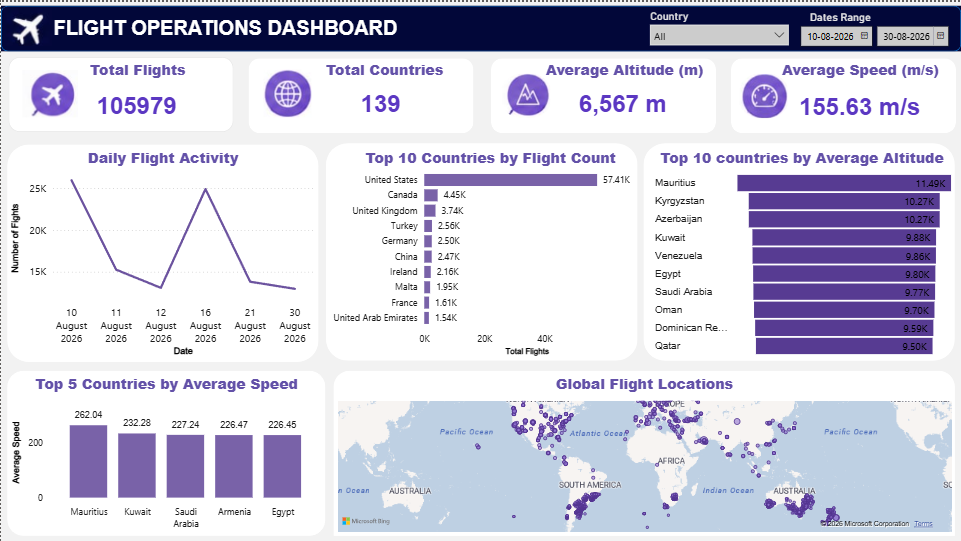

Layout of this report page (visuals, bound fields, positions):
{"tool":"powerbi","page":{"name":"Excutive Overview","canvas":[1280,720],"ordinal":0},"visuals":[{"type":"shape","box":[857.1,189.1,415,290],"z":0},{"type":"shape","box":[444.1,491.4,828.5,220.2],"z":1000},{"type":"shape","box":[972.9,74.3,300,100],"z":2000},{"type":"shape","box":[0,4.5,1280,61],"z":3000},{"type":"shape","box":[9.2,74,300,100],"z":4000},{"type":"shape","box":[330,74.3,300,100],"z":5000},{"type":"shape","box":[652.9,74.3,300,100],"z":6000},{"type":"shape","box":[8.6,190,415,290],"z":7000},{"type":"shape","box":[8.7,491.4,424.2,220.2],"z":8000},{"type":"shape","box":[432.9,189.1,415.5,289.8],"z":9000},{"type":"textbox","title":"FLIGHT OPERATIONS DASHBOARD","box":[0,20,598.6,34.3],"z":10000},{"type":"slicer","title":"Country","fields":{"Values":["flight_ops fact_flights.origin_country"]},"box":[855.1,20,205,42.7],"z":11000},{"type":"textbox","title":"Country","box":[849.6,10,82.1,31.1],"z":12000},{"type":"slicer","title":"Date","fields":{"Values":["flight_ops fact_flights.flight_date"]},"box":[1053.6,21.1,221.4,39.8],"z":13000},{"type":"textbox","title":"Dates Range","box":[1053.4,11.2,131.9,31.1],"z":14000},{"type":"cardVisual","fields":{"Data":["flight_ops fact_flights.Total Flights"]},"box":[93.5,103.2,175.4,69.7],"z":15000},{"type":"textbox","title":"Total Flights","box":[101,77.1,161.2,31.2],"z":16000},{"type":"textbox","title":"Total Countries","box":[425.4,77.1,172.9,31.1],"z":17000},{"type":"cardVisual","fields":{"Data":["flight_ops fact_flights.Total Countries"]},"box":[436.6,99.5,139.3,70.9],"z":18000},{"type":"cardVisual","fields":{"Data":["flight_ops fact_flights.Average Altitude"]},"box":[721.5,99.5,215.2,70.9],"z":19000},{"type":"cardVisual","fields":{"Data":["flight_ops fact_flights.Average Speed"]},"box":[1034,103.2,223.9,70.9],"z":20000},{"type":"textbox","title":"Average Altitude (m)","box":[719,77.1,226.4,32.3],"z":21000},{"type":"textbox","title":"Average Speed (m/s)","box":[1034,77.1,225.2,32.3],"z":22000},{"type":"lineChart","title":"Daily Flight Operations","fields":{"Y":["flight_ops fact_flights.Total Flights"],"Category":["flight_ops fact_flights.flight_date"]},"box":[8.7,223.9,415.5,255],"z":23000},{"type":"textbox","title":"Daily Flight Activity","box":[82.1,192.8,268.7,31.1],"z":24000},{"type":"clusteredBarChart","title":"Top 10 Countries by Flight Count","fields":{"Category":["flight_ops fact_flights.origin_country"],"Y":["flight_ops fact_flights.Total Flights"]},"box":[432.9,209,415.5,270],"z":25000},{"type":"funnel","title":"Top 10 Countries by Average Altitude","fields":{"Category":["flight_ops dim_country.country_name"],"Y":["Avg(flight_ops fact_flights.baro_altitude)"]},"box":[859.6,223.9,416.7,253.8],"z":26000},{"type":"textbox","title":"Top 10 countries by Average Altitude","box":[868.3,192.8,399.3,31.1],"z":27000},{"type":"textbox","title":"Top 10 Countries by Flight Count","box":[470.2,192.8,365.7,31.1],"z":28000},{"type":"clusteredColumnChart","title":"Top 5 Countries by Average Speed","fields":{"Category":["flight_ops dim_country.country_name"],"Y":["Avg(flight_ops fact_flights.velocity)"]},"box":[10,526.2,422.9,185.3],"z":29000},{"type":"textbox","title":"Top 5 Countries by Average Speed","box":[22.4,495.1,398.1,31.1],"z":30000},{"type":"map","title":"Flight Locations","fields":{"Y":["flight_ops fact_flights.latitude"],"X":["flight_ops fact_flights.longitude"],"Size":["CountNonNull(flight_ops fact_flights.icao24)"]},"box":[445.3,526.2,827.2,185.3],"z":31000},{"type":"textbox","title":"Global Flight Locations","box":[726.5,495.1,262.5,31.1],"z":32000},{"type":"image","box":[3.7,5,64.7,56],"z":33000},{"type":"image","box":[28.6,89.6,74.6,64.7],"z":34000},{"type":"image","box":[345.8,89.6,74,64],"z":35000},{"type":"image","box":[665.5,94.5,70,60],"z":36000},{"type":"image","box":[981.5,94.5,70,60],"z":37000}]}

Visuals, with their boxes in screenshot pixels (x1, y1, x2, y2), scaled from the page's 1280x720 canvas onto the 961x541 screenshot:
shape: <region>643, 142, 955, 360</region>
shape: <region>333, 369, 955, 535</region>
shape: <region>730, 56, 956, 131</region>
shape: <region>0, 3, 960, 49</region>
shape: <region>7, 56, 232, 131</region>
shape: <region>248, 56, 473, 131</region>
shape: <region>490, 56, 715, 131</region>
shape: <region>6, 143, 318, 361</region>
shape: <region>7, 369, 325, 535</region>
shape: <region>325, 142, 637, 360</region>
"FLIGHT OPERATIONS DASHBOARD" textbox: <region>0, 15, 449, 41</region>
"Country" slicer: <region>642, 15, 796, 47</region>
"Country" textbox: <region>638, 8, 700, 31</region>
"Date" slicer: <region>791, 16, 957, 46</region>
"Dates Range" textbox: <region>791, 8, 890, 32</region>
cardVisual - flight_ops fact_flights.Total Flights: <region>70, 78, 202, 130</region>
"Total Flights" textbox: <region>76, 58, 197, 81</region>
"Total Countries" textbox: <region>319, 58, 449, 81</region>
cardVisual - flight_ops fact_flights.Total Countries: <region>328, 75, 432, 128</region>
cardVisual - flight_ops fact_flights.Average Altitude: <region>542, 75, 703, 128</region>
cardVisual - flight_ops fact_flights.Average Speed: <region>776, 78, 944, 131</region>
"Average Altitude (m)" textbox: <region>540, 58, 710, 82</region>
"Average Speed (m/s)" textbox: <region>776, 58, 945, 82</region>
"Daily Flight Operations" lineChart: <region>7, 168, 318, 360</region>
"Daily Flight Activity" textbox: <region>62, 145, 263, 168</region>
"Top 10 Countries by Flight Count" clusteredBarChart: <region>325, 157, 637, 360</region>
"Top 10 Countries by Average Altitude" funnel: <region>645, 168, 958, 359</region>
"Top 10 countries by Average Altitude" textbox: <region>652, 145, 952, 168</region>
"Top 10 Countries by Flight Count" textbox: <region>353, 145, 628, 168</region>
"Top 5 Countries by Average Speed" clusteredColumnChart: <region>8, 395, 325, 535</region>
"Top 5 Countries by Average Speed" textbox: <region>17, 372, 316, 395</region>
"Flight Locations" map: <region>334, 395, 955, 535</region>
"Global Flight Locations" textbox: <region>545, 372, 743, 395</region>
image: <region>3, 4, 51, 46</region>
image: <region>21, 67, 77, 116</region>
image: <region>260, 67, 315, 115</region>
image: <region>500, 71, 552, 116</region>
image: <region>737, 71, 789, 116</region>
